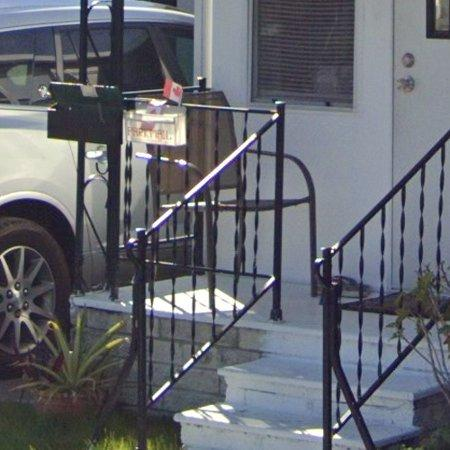stairs: (176, 133, 450, 450)
